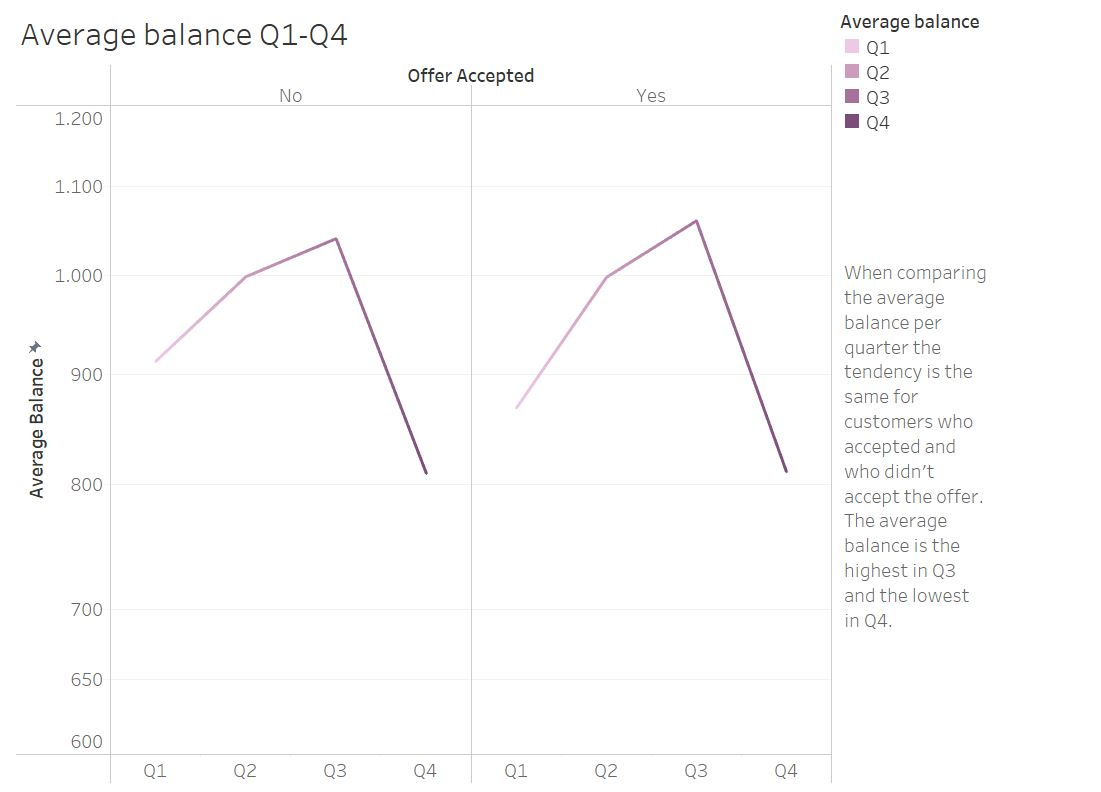

The page's visual inventory and layout, read from the dashboard file:
{"tool":"tableau","page":{"name":"qu. 5","canvas":[1000,800],"ordinal":4},"visuals":[{"type":"worksheet","title":"5","mark":"Line","cols":["Offer Accepted"],"box":[8,8,824,784]},{"type":"legend","title":"5","param":"[federated.0td3coj1ralyfw14bli0v0wkrks8].[:Measure Names]","box":[832,8,160,134]},{"type":"text","box":[832,142,160,618]}]}

Visuals, with their boxes on the page's 1000x800 design canvas (x1, y1, x2, y2). These are canvas units, not pixel positions in the 1101x792 screenshot, which may show the page scaled, cropped or inside an application window:
"5" worksheet (Line marks): 8,8,832,792
"5" legend: 832,8,992,142
text: 832,142,992,760
